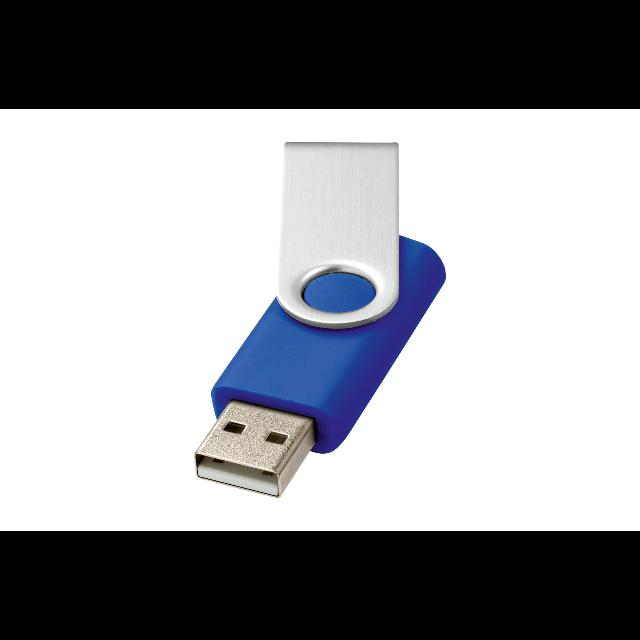USB-Flash-Drive: (195, 229, 446, 497)
